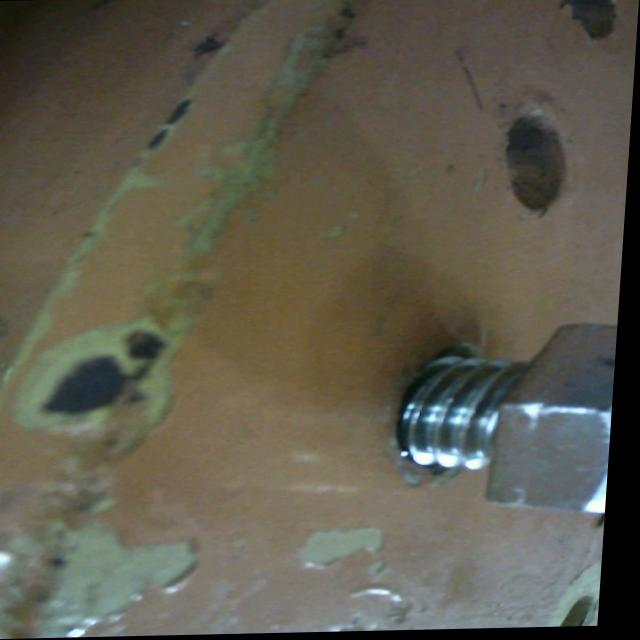Loose bolt: (406, 326, 623, 521)
Missing bolt: (491, 115, 577, 216), (555, 1, 620, 41)
Regular bolt: (409, 328, 623, 516)
